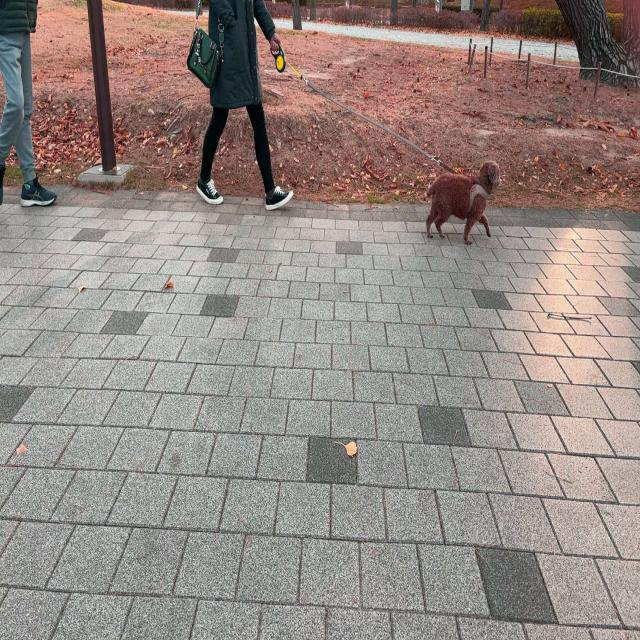Leashed_Dog: (252, 34, 502, 245)
